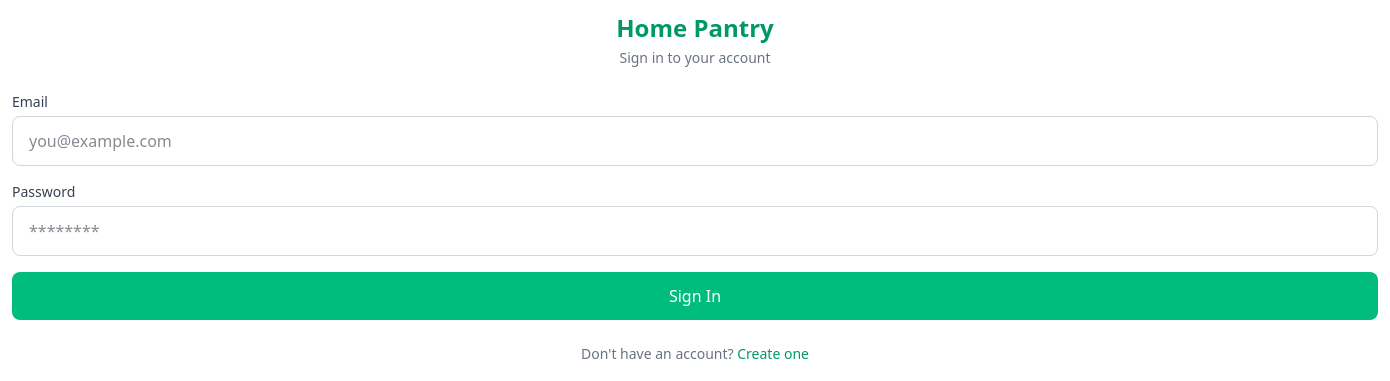
Test: LoginPage › toggles back to sign in mode
Click the button "Create one" at x=773, y=354, box [737, 344, 809, 364]
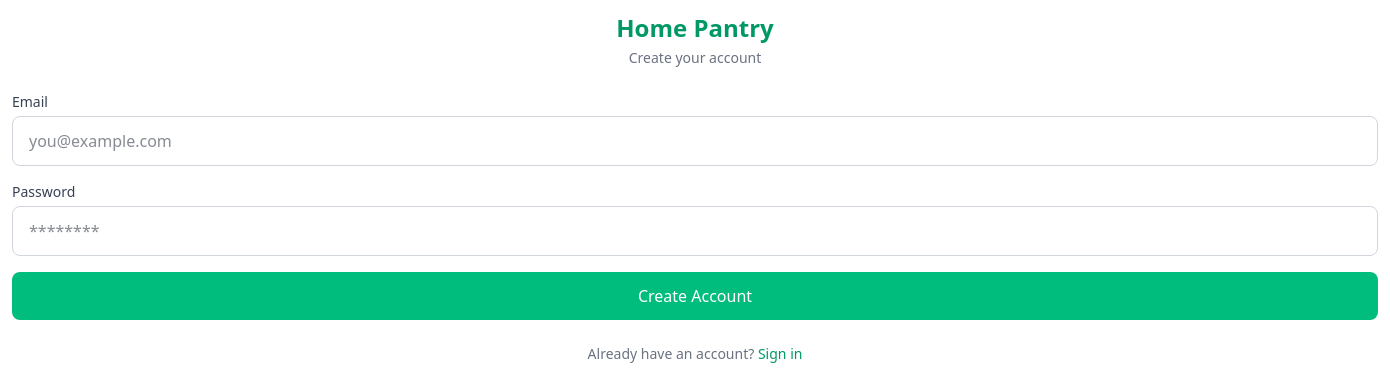
Click the button "Sign in" at x=780, y=354, box [758, 344, 802, 364]
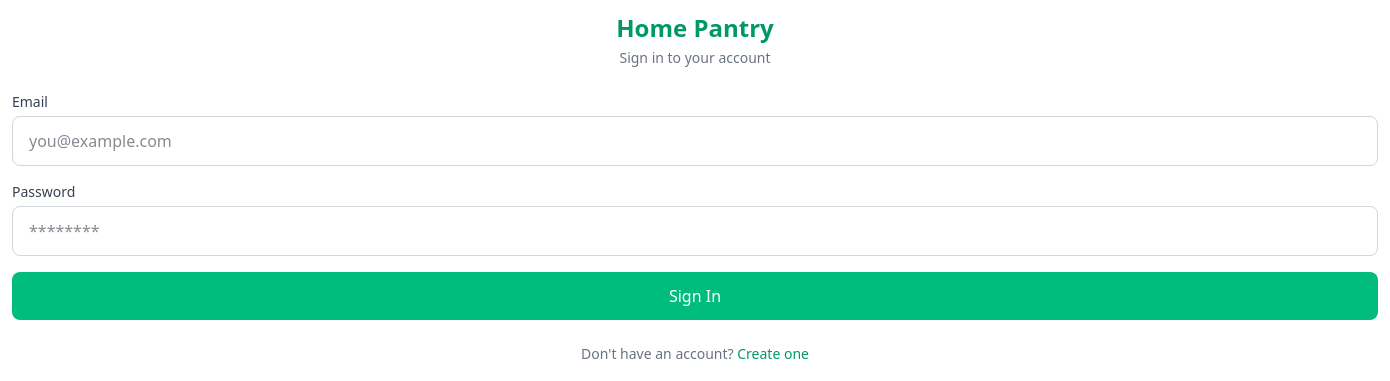
Now the text "Sign in to your account" is shown, box [620, 48, 771, 67]
